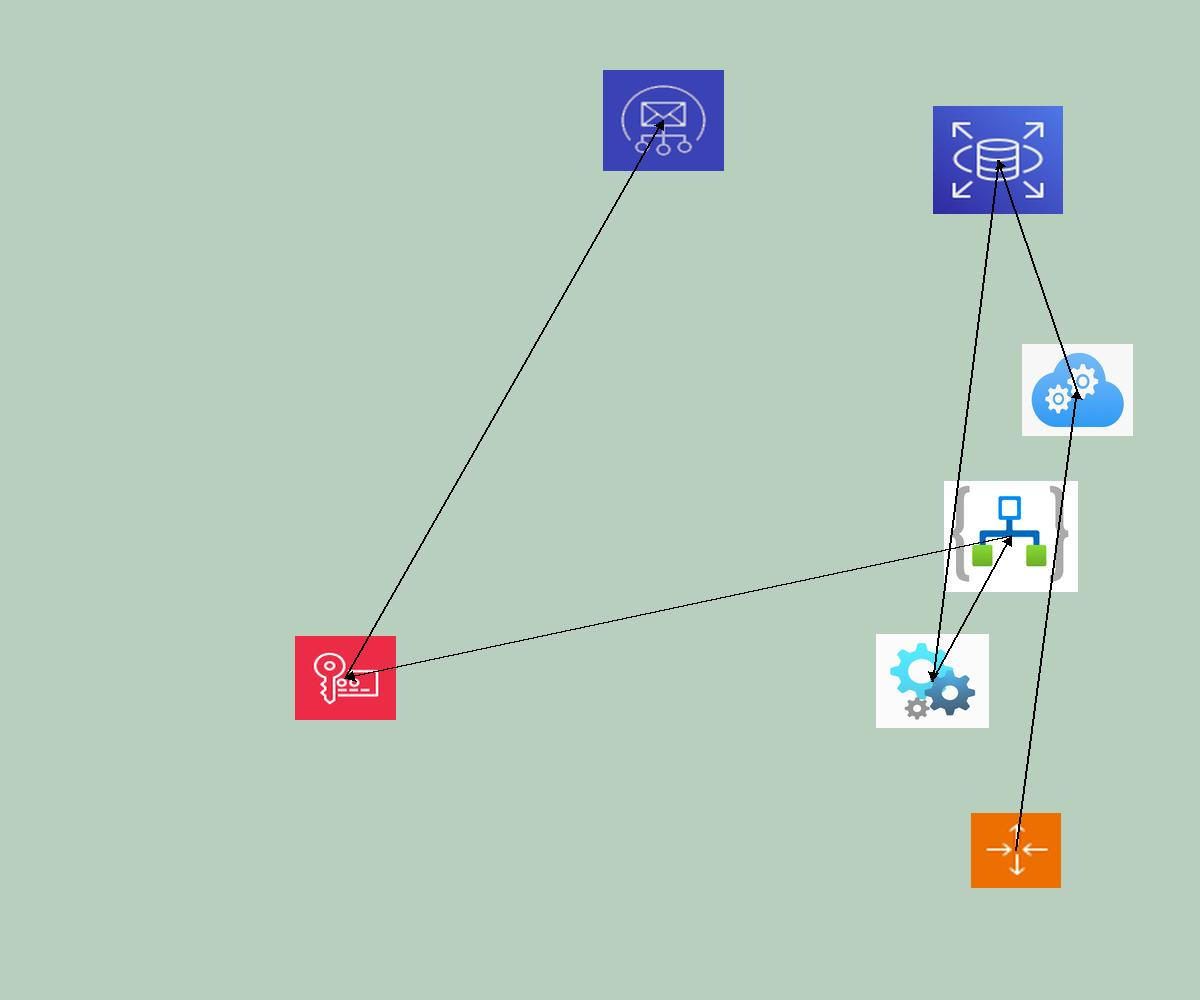AWS-Key-Management-Service: (295, 636, 396, 720)
AWS-RDS: (933, 106, 1063, 214)
AWS-Scaling-group: (971, 813, 1061, 888)
AWS-Simple-Email-Service: (603, 70, 724, 171)
Azure_api: (876, 634, 989, 728)
Azure_cloud_services: (1022, 344, 1133, 436)
Azure_integration-204-Logic-Apps: (944, 481, 1078, 592)
